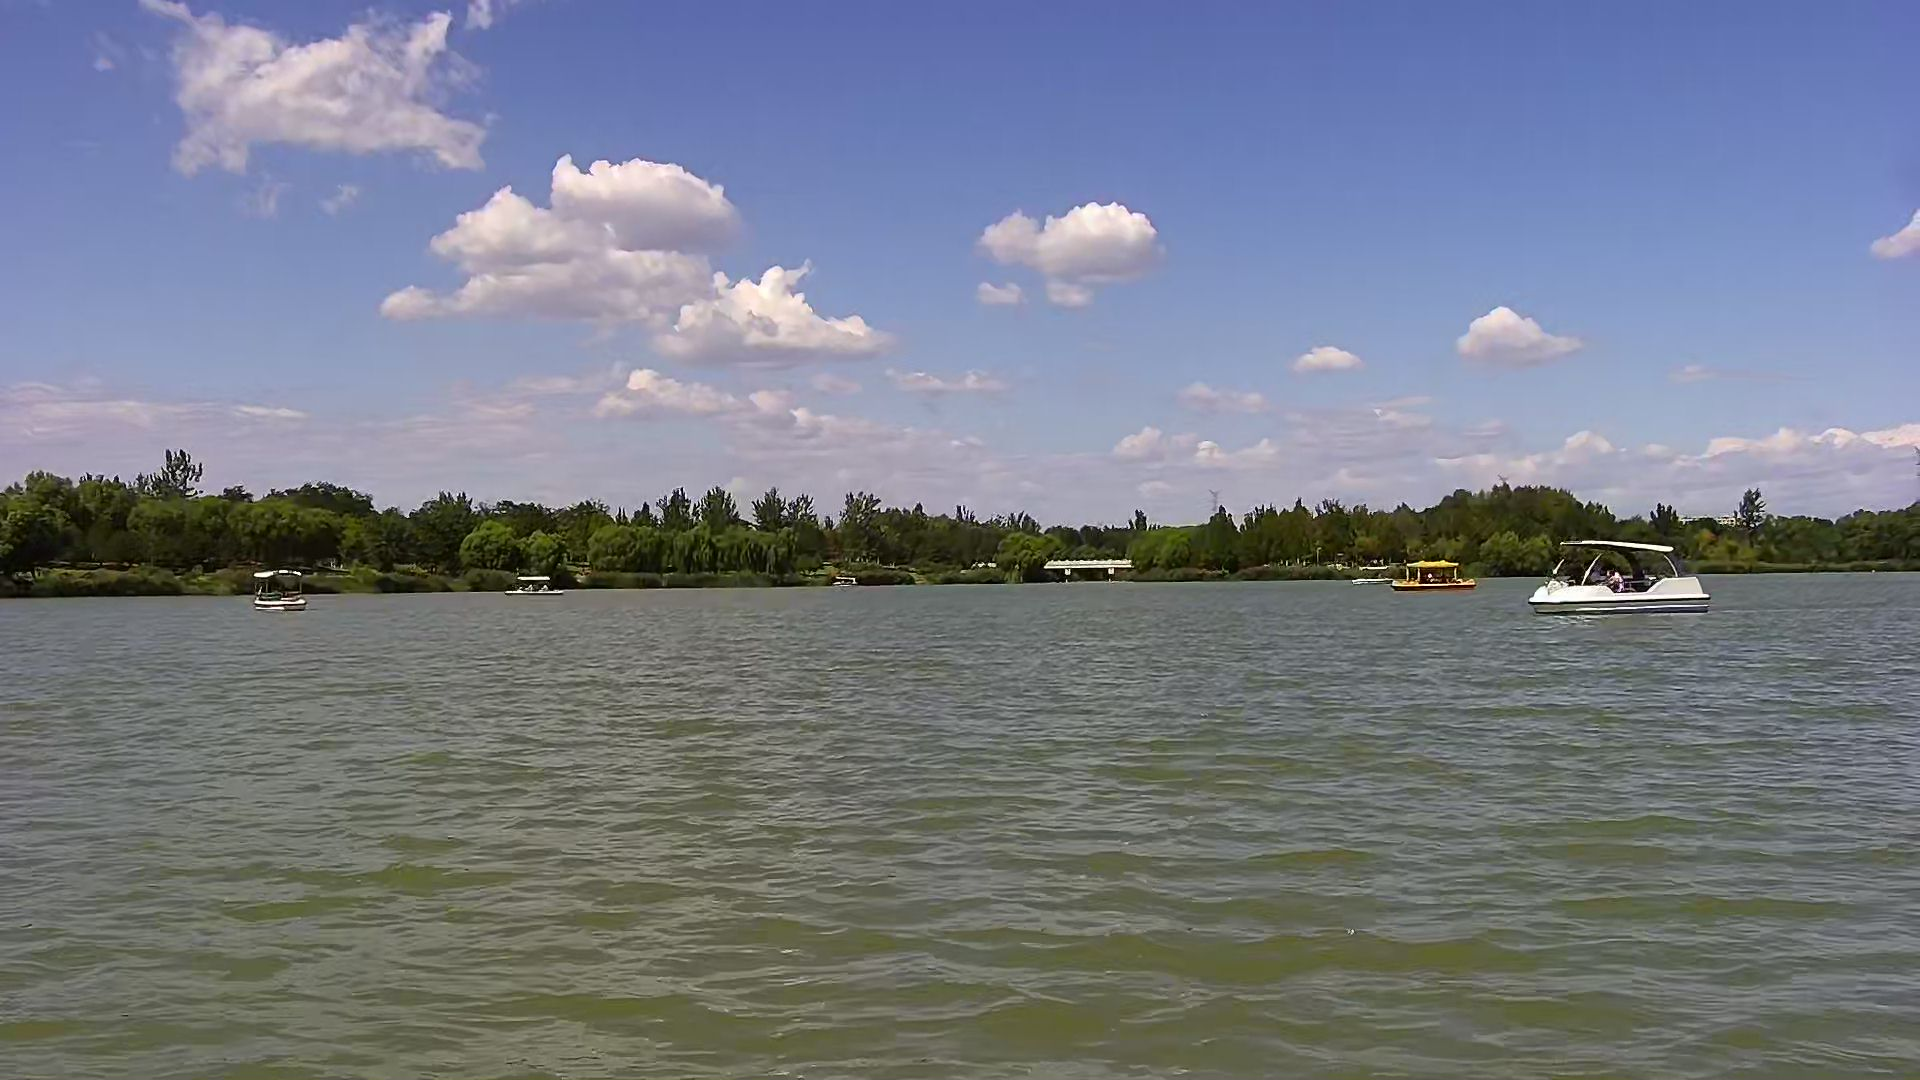boat: (1520, 533, 1712, 622), (1394, 556, 1477, 595), (248, 568, 310, 615), (497, 571, 568, 601)
bridge: (1052, 556, 1135, 588)
